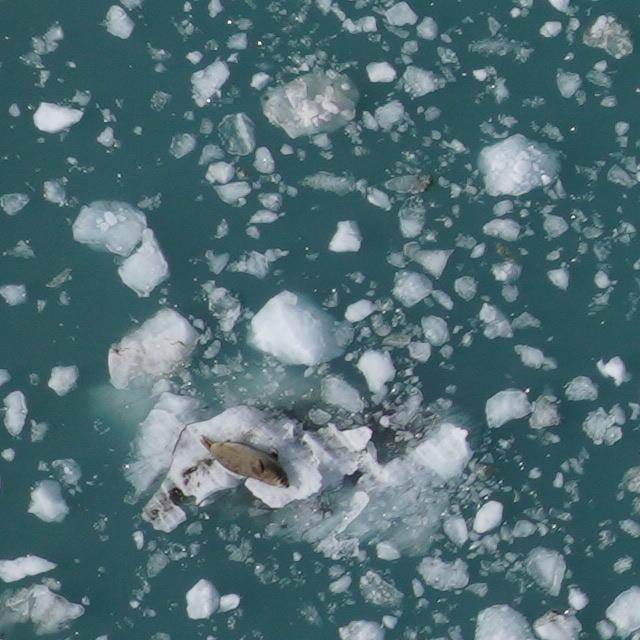seal: (191, 430, 297, 491)
